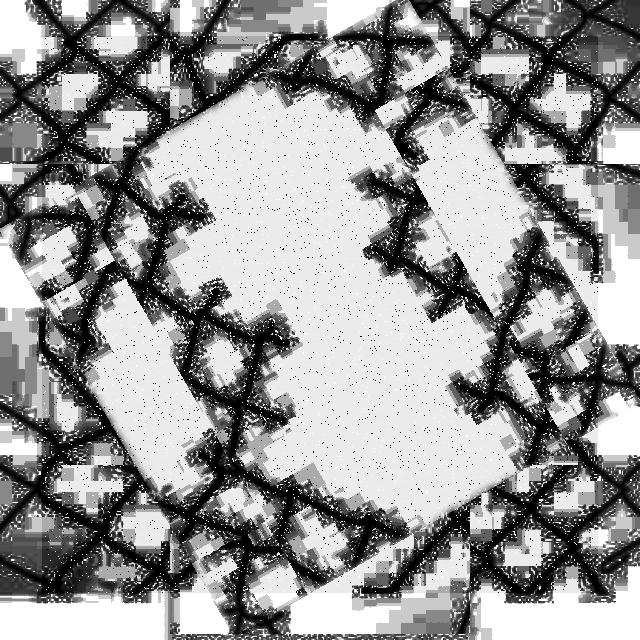anomaly-fence: (42, 36, 598, 593)
